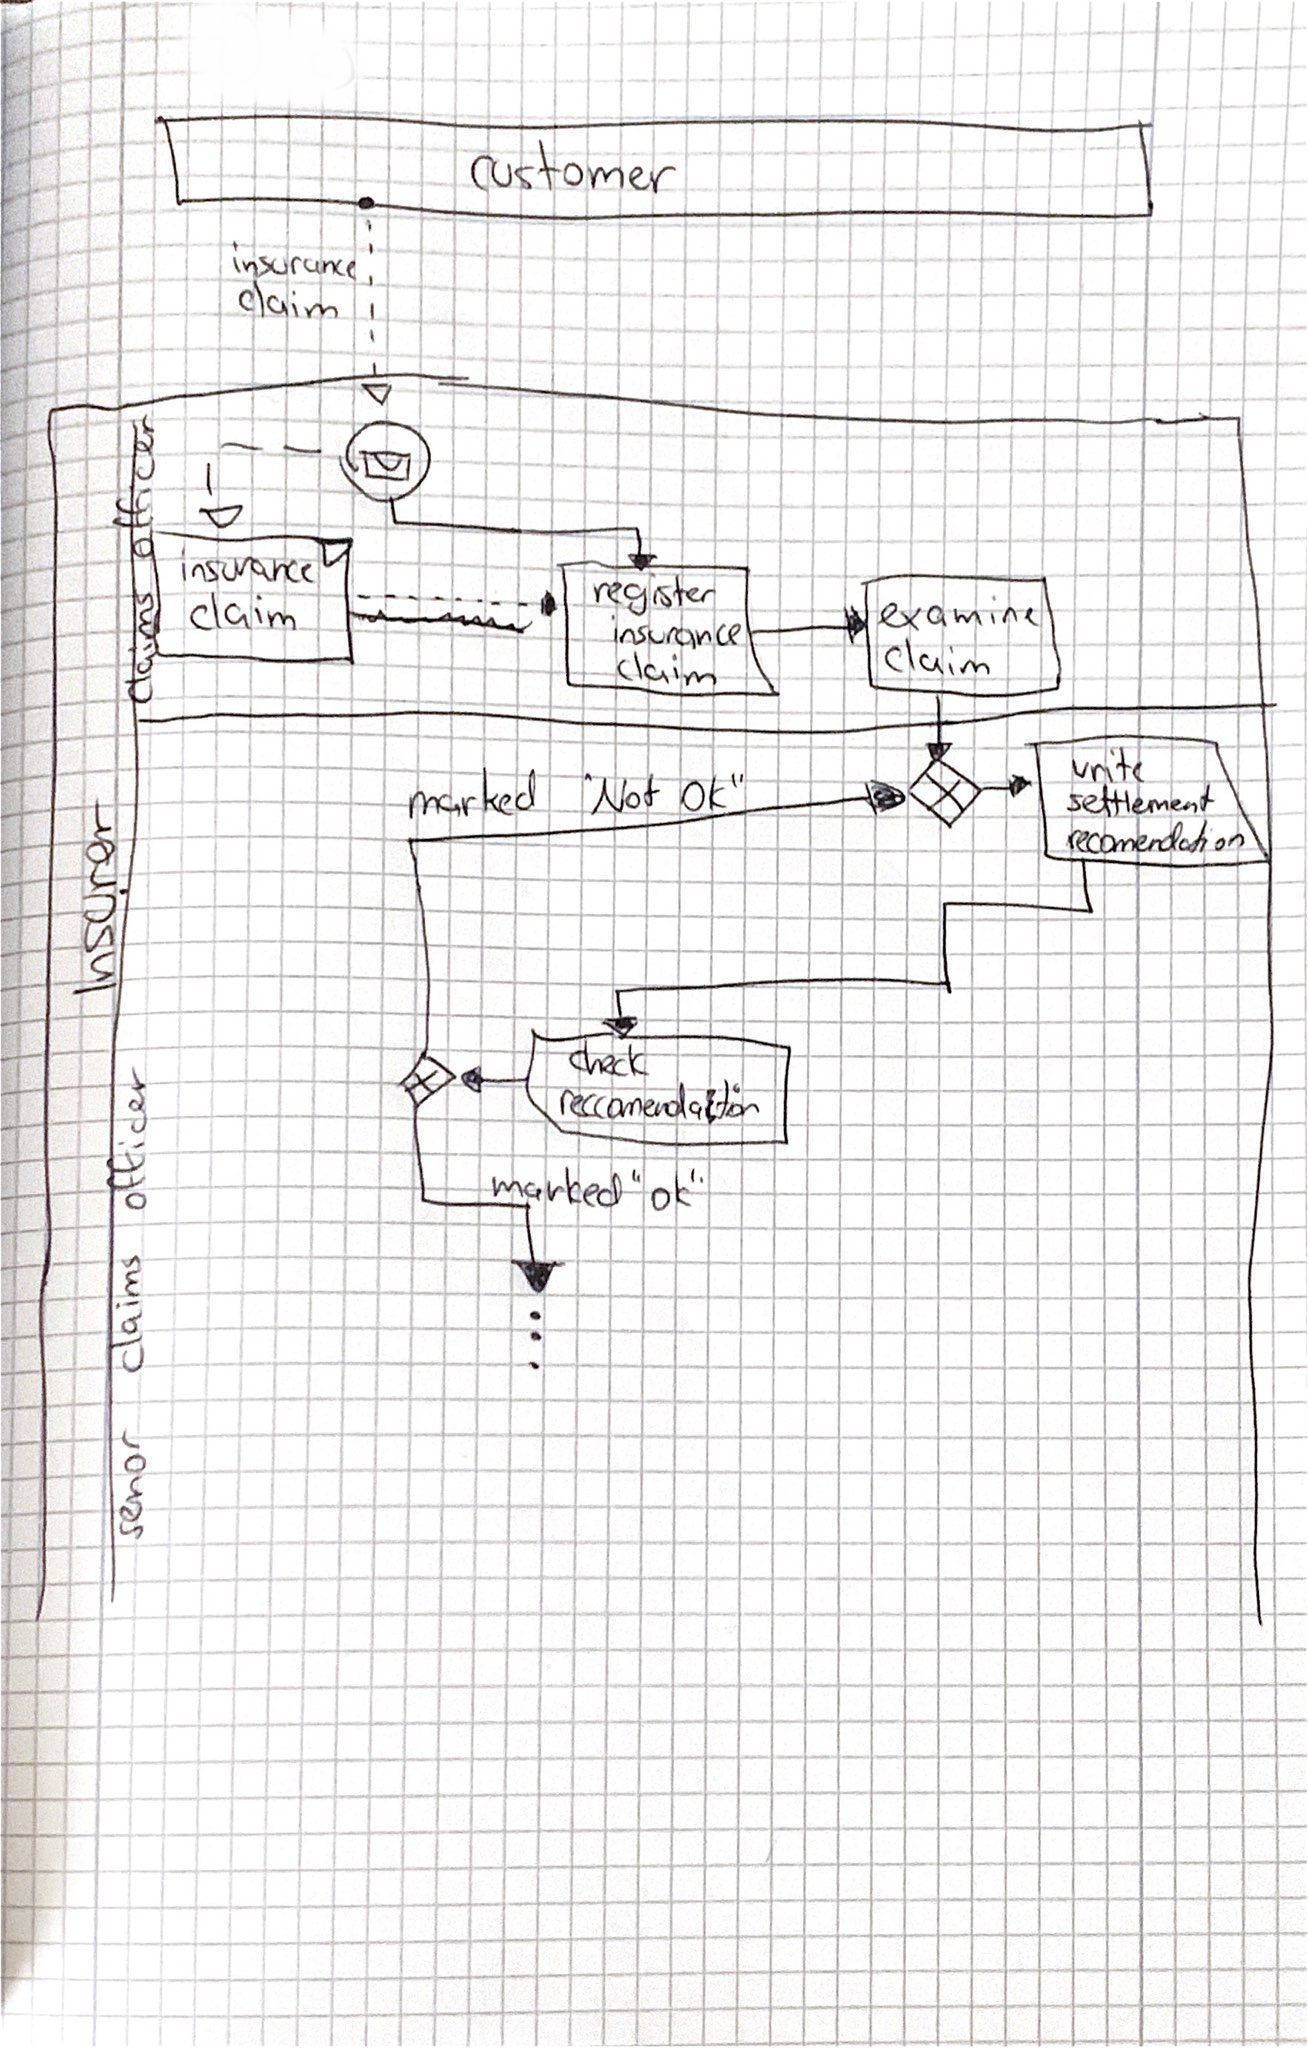Claims: (118, 582, 161, 711)
Insurer: (64, 793, 125, 1005)
Not: (579, 767, 667, 822)
Ok: (673, 767, 751, 821)
check: (563, 1031, 655, 1082)
claim: (182, 584, 305, 640), (876, 631, 999, 684), (231, 273, 345, 325), (611, 645, 723, 691)
claims: (102, 1249, 149, 1379)
customer: (463, 134, 682, 202)
examine: (873, 590, 1047, 636)
insurance: (175, 540, 320, 591), (225, 236, 363, 287), (605, 609, 748, 652)
marked: (402, 758, 544, 825), (485, 1161, 627, 1215)
officer: (100, 1061, 154, 1218)
ok: (627, 1163, 711, 1220)
reccomendation: (554, 1073, 766, 1130)
recomendation: (1060, 814, 1251, 860)
register: (585, 570, 723, 622)
senior: (109, 1423, 151, 1546)
settlement: (1059, 778, 1221, 824)
write: (1065, 742, 1153, 790)
